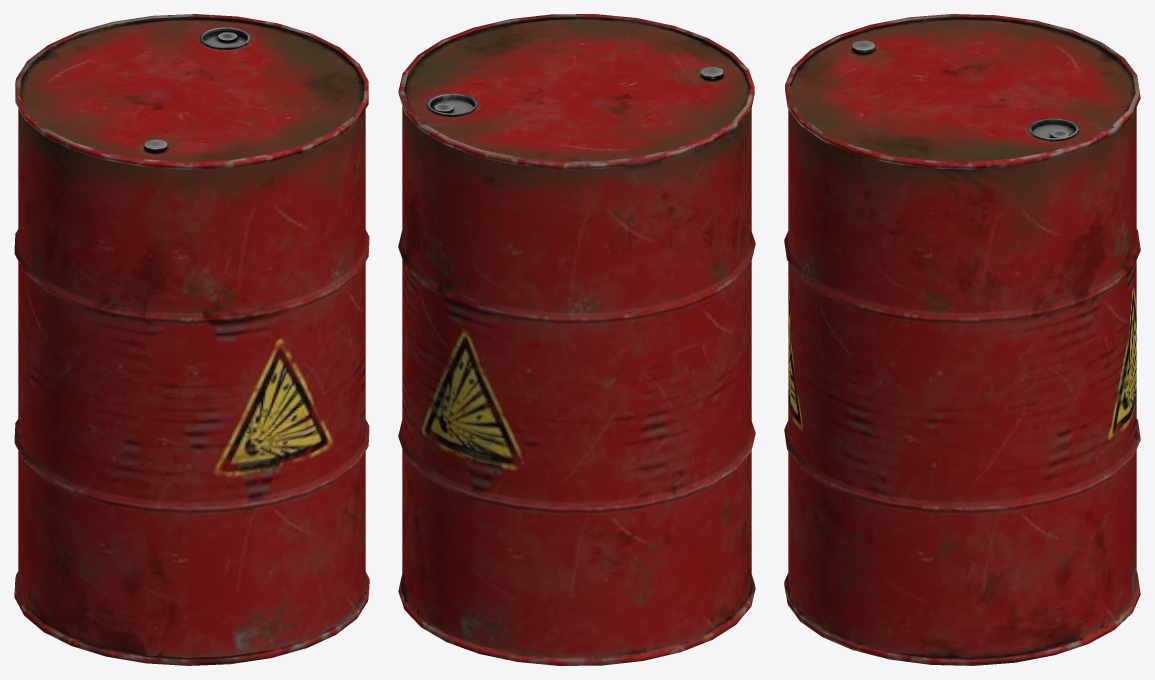
Rendered from barrel-red.glb.
3 renders of one model, left to right at view 1: azimuth 30°, elevation 25°; view 2: azimuth 150°, elevation 25°; view 3: azimuth 270°, elevation 25°, orthographic.
Visible parts, largest first — view 1: Barrel_01; view 2: Barrel_01; view 3: Barrel_01.
Part boxes in pixels (x1,y1,x2,y2): Barrel_01: (14, 14, 369, 665); Barrel_01: (398, 14, 755, 665); Barrel_01: (784, 14, 1140, 665).
Size of the model in its own units: 0.5631 by 0.88 by 0.5631.
Materials: 1 (1 with a texture image).
